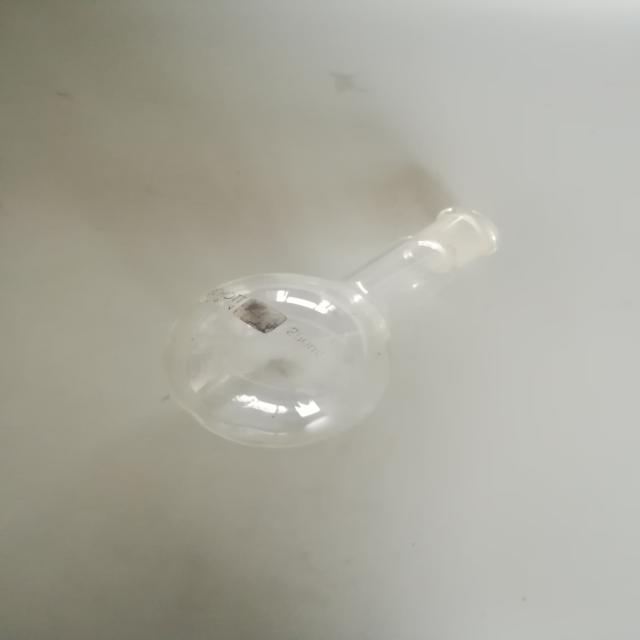Round_Bottom_Flask_Borosilicate_Glass_1_Neck: (129, 149, 511, 480)
